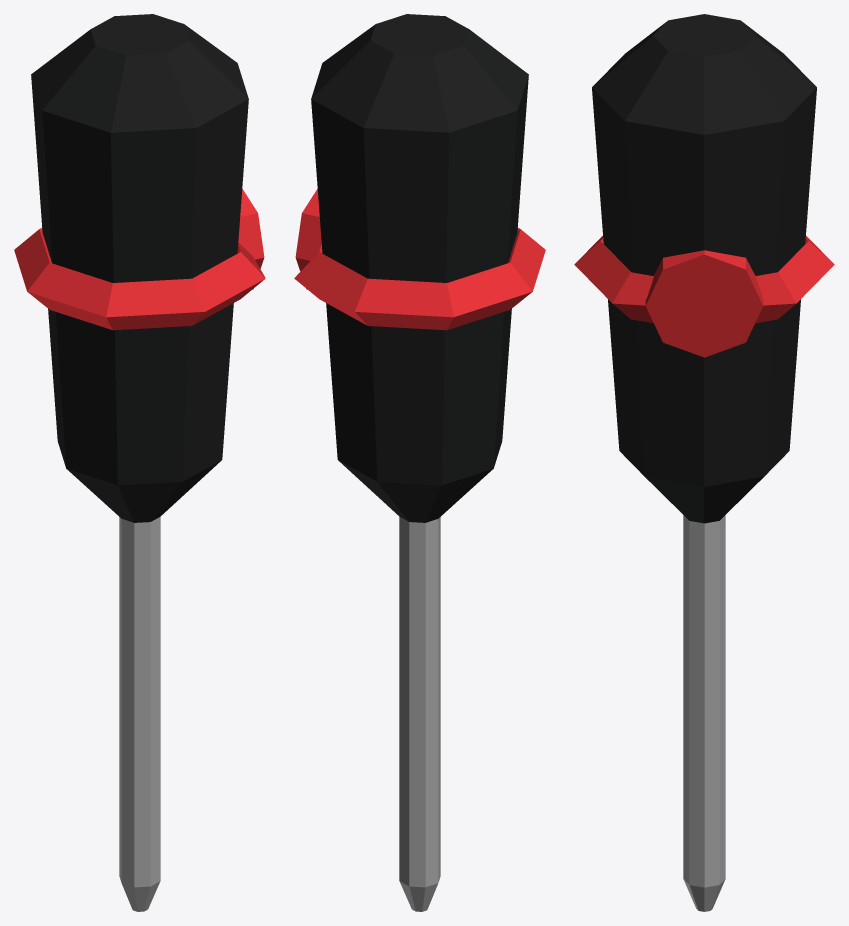
File: screwdriver_red.gltf
3 renders of one model, left to right at view 1: azimuth 30°, elevation 25°; view 2: azimuth 150°, elevation 25°; view 3: azimuth 270°, elevation 25°, orthographic.
Visible parts, largest first — view 1: Cylinder, Circle; view 2: Cylinder, Circle; view 3: Cylinder, Circle.
Boxes of the visible parts, x1=… form: Cylinder: x1=31, y1=14, x2=248, y2=911; Circle: x1=14, y1=189, x2=265, y2=330; Cylinder: x1=311, y1=14, x2=528, y2=911; Circle: x1=294, y1=189, x2=545, y2=330; Cylinder: x1=592, y1=14, x2=816, y2=911; Circle: x1=574, y1=236, x2=834, y2=357.
Bounding box in the file's own units: 1.94 × 7.66 × 2.07.
